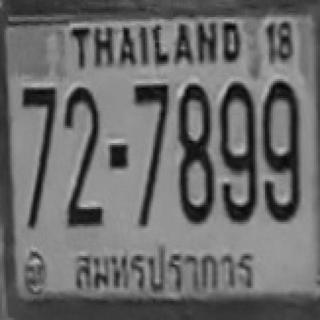N00: (261, 80, 298, 170), (218, 81, 255, 168), (63, 85, 98, 173), (177, 81, 210, 152)
N07: (132, 82, 169, 163), (21, 85, 56, 164)
N08: (177, 83, 212, 222)
N09: (218, 99, 255, 221), (218, 113, 255, 220), (261, 119, 298, 220)
P57: (61, 242, 269, 298)
